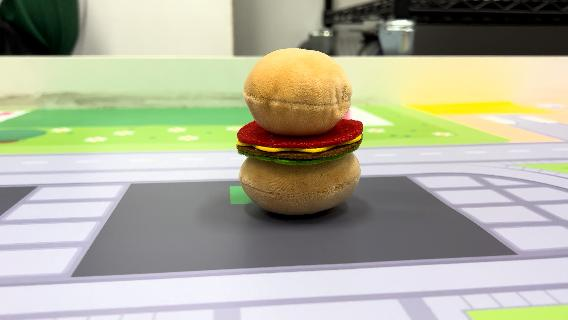burger: (233, 44, 367, 218)
